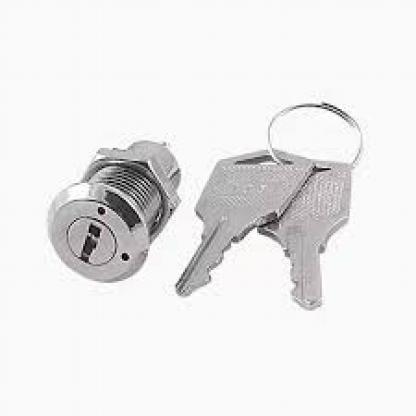key: (181, 144, 289, 292), (267, 151, 358, 312)
